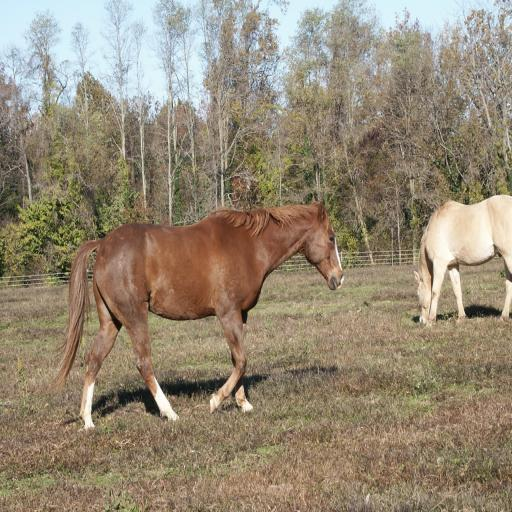horse: (53, 194, 345, 430), (412, 196, 512, 330)
